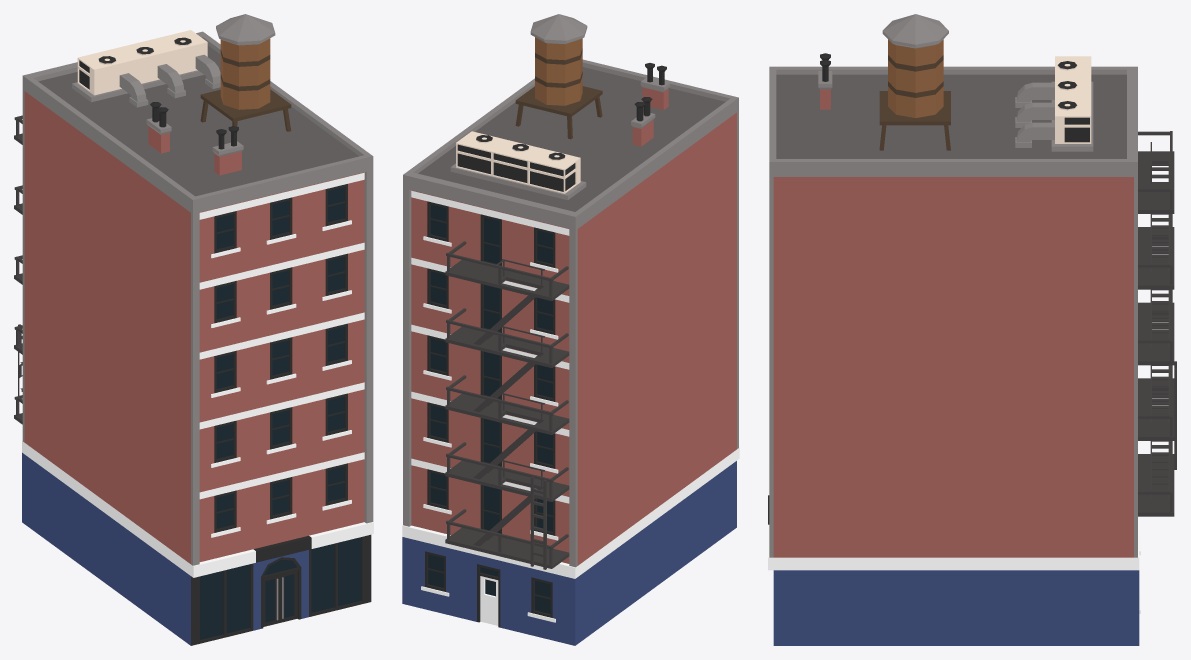
Rendered from building-block-5floor-short.glb.
3 renders of one model, left to right at view 1: azimuth 30°, elevation 25°; view 2: azimuth 150°, elevation 25°; view 3: azimuth 270°, elevation 25°, orthographic. The views are drawn at different scales.
Parts seen in each view (by area): view 1: building-block-5floor-short; view 2: building-block-5floor-short; view 3: building-block-5floor-short.
Part boxes in pixels (bbox=[...]): building-block-5floor-short: bbox=[14, 14, 373, 645]; building-block-5floor-short: bbox=[402, 14, 739, 645]; building-block-5floor-short: bbox=[768, 14, 1176, 645].
Size of the model in its own units: 8.1 by 23.81 by 14.7.
Materials: 1 (1 with a texture image).
